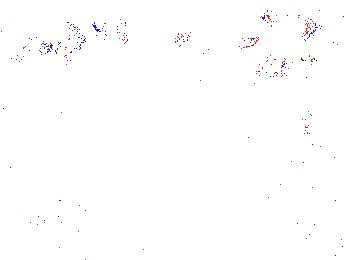X-ray fish: (49, 15, 91, 61)
glassfish: (284, 111, 318, 142)
red belly glassfish: (253, 60, 287, 79), (259, 9, 291, 26), (304, 53, 327, 70)
redtail glassfish: (165, 25, 258, 58), (1, 32, 55, 64), (298, 11, 346, 44), (92, 13, 131, 46)
